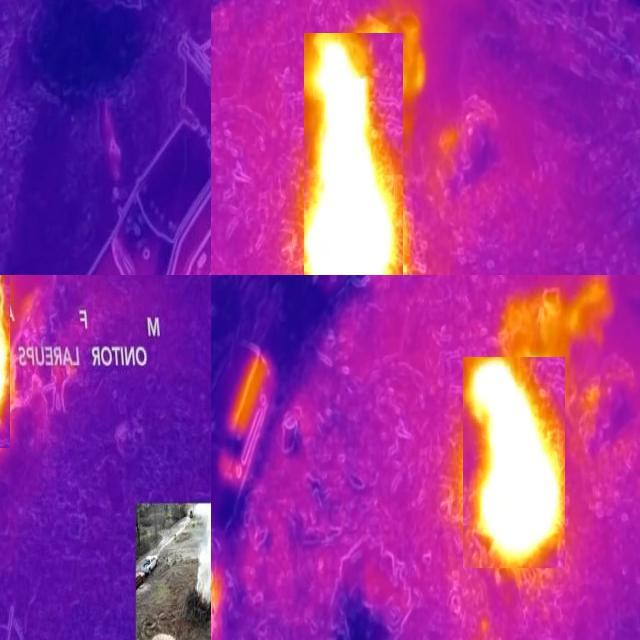fire: (304, 33, 403, 276), (463, 357, 565, 568)
